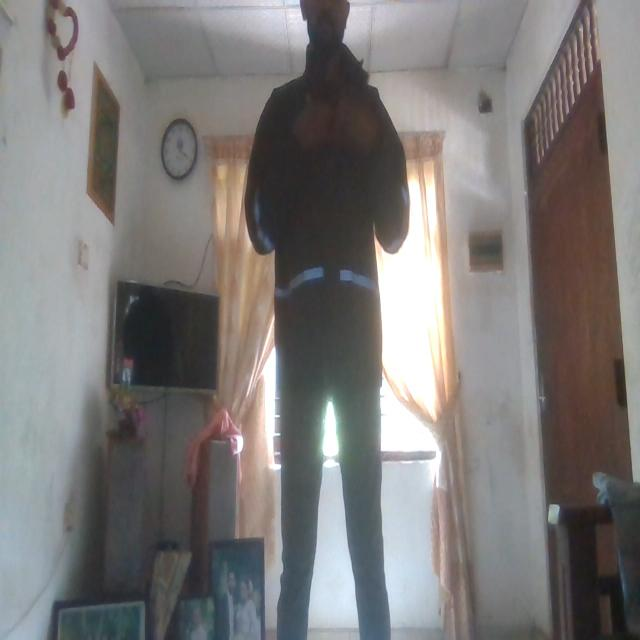Helmet_Wearer: (242, 62, 418, 439)
Person: (243, 11, 408, 640)
